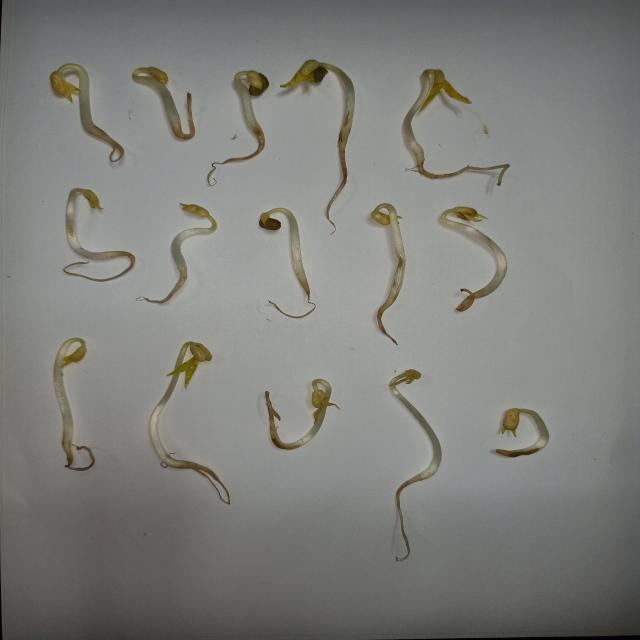leaf: (424, 70, 471, 110), (177, 342, 218, 387), (283, 59, 322, 94), (56, 339, 87, 367), (312, 379, 333, 410), (52, 70, 72, 100), (390, 370, 423, 387), (174, 202, 213, 216), (502, 409, 521, 436), (453, 207, 486, 222), (247, 70, 267, 94), (372, 205, 395, 225), (86, 190, 104, 212), (148, 68, 171, 85), (261, 214, 282, 230)
root: (324, 116, 353, 236), (408, 157, 512, 190), (213, 130, 264, 182), (396, 481, 428, 560), (188, 460, 237, 507), (134, 274, 196, 305), (266, 283, 316, 320), (257, 388, 281, 441), (63, 438, 97, 471), (96, 127, 124, 163), (374, 307, 398, 346), (112, 248, 141, 274), (457, 291, 481, 312), (488, 448, 510, 466), (172, 126, 196, 140)
stem: (441, 209, 508, 292), (391, 386, 443, 481), (378, 202, 422, 305), (154, 342, 186, 470), (286, 378, 335, 458), (405, 71, 446, 157), (162, 213, 220, 272), (262, 209, 308, 281), (67, 190, 111, 263), (56, 334, 86, 438), (133, 68, 180, 128), (51, 65, 94, 130), (503, 408, 550, 454), (321, 64, 356, 114), (233, 72, 260, 130)
